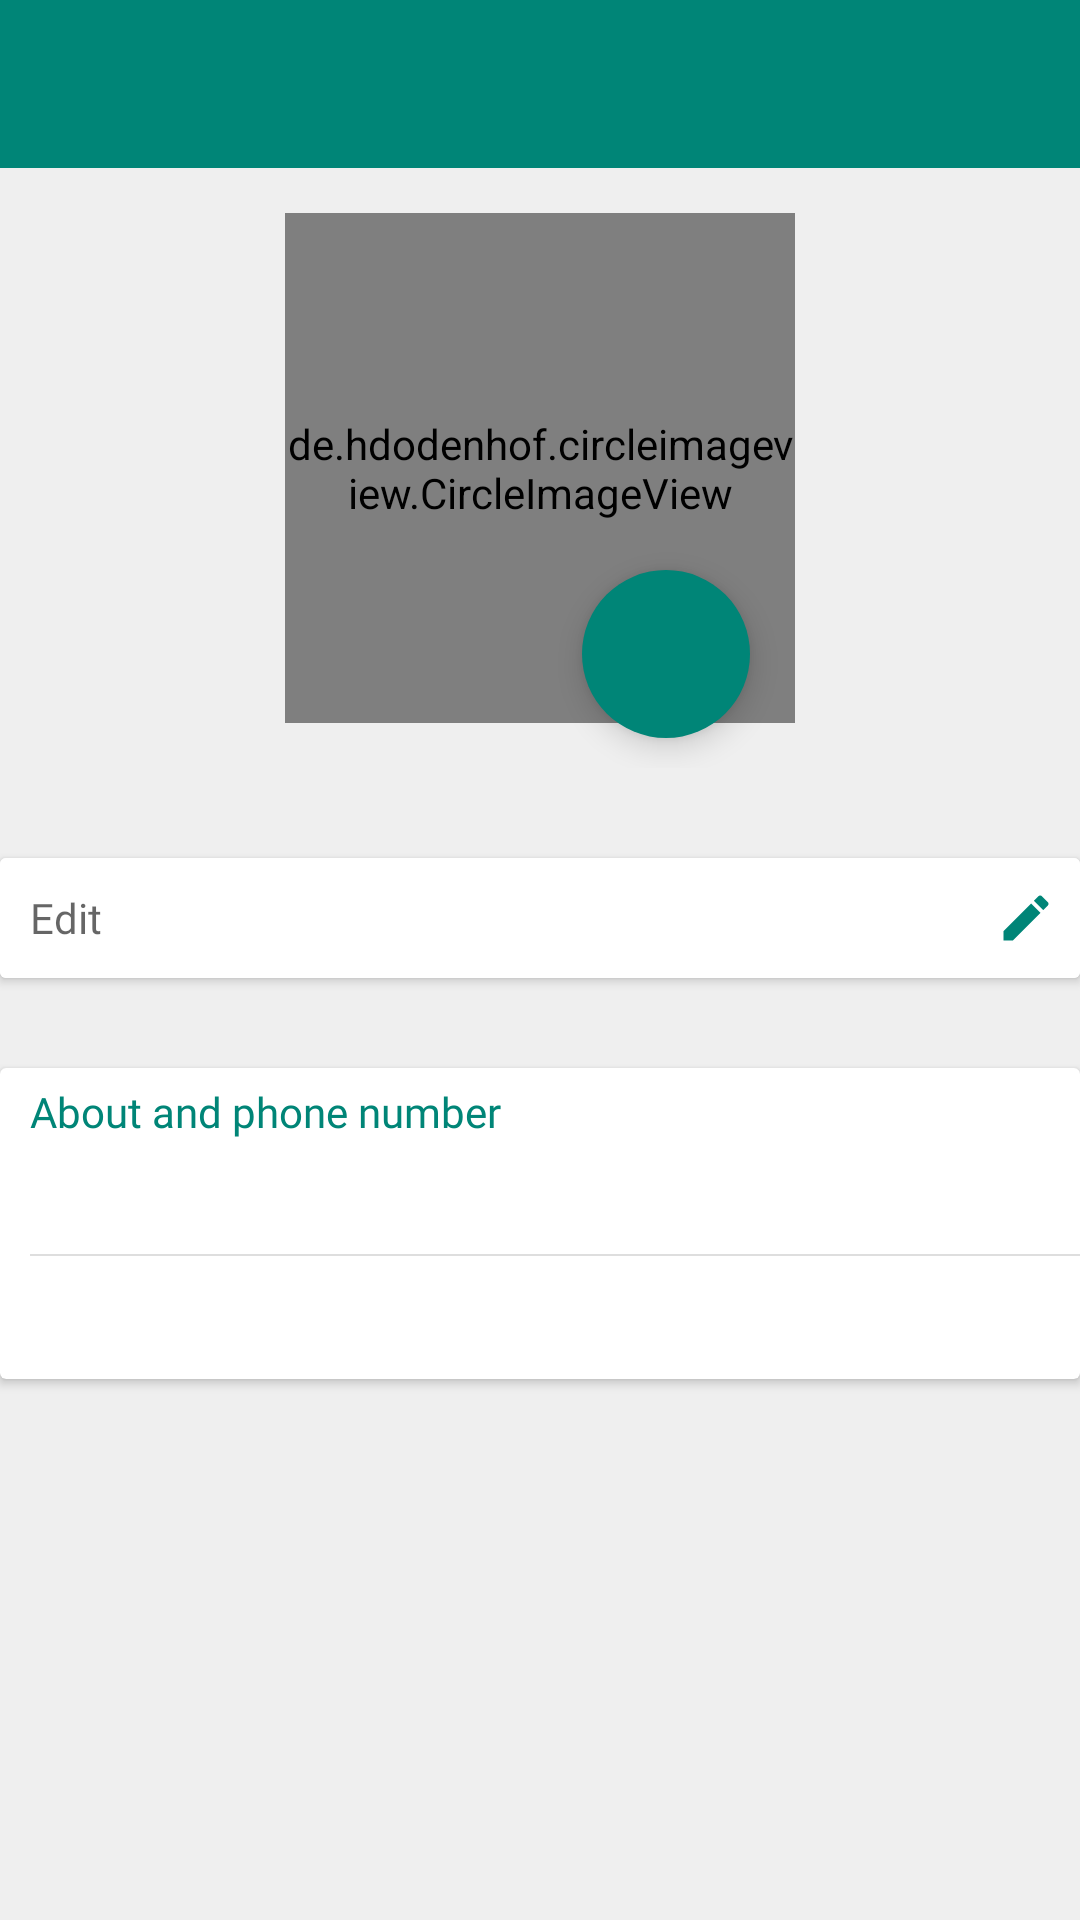

Named icons in this screenshot (1080×1920) and their bounding boxes, (x1, y1, x2, y2):
edit: (1003, 895, 1049, 941)
